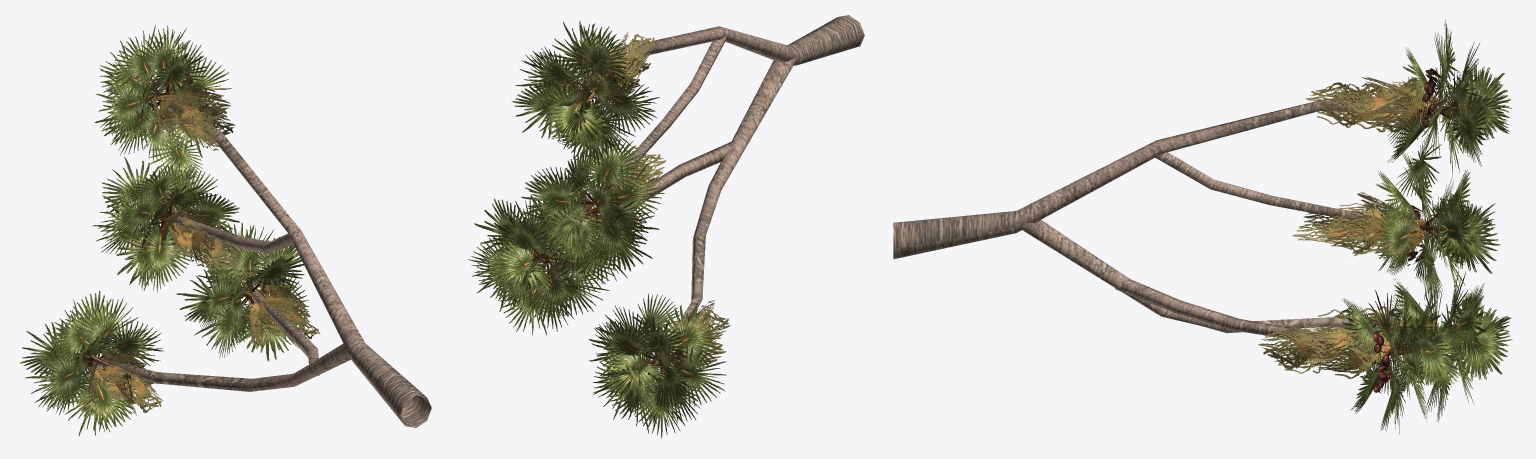
File: palm_doum_2.glb
3 views of the same model, side by side, from view 1: azimuth 30°, elevation 25°; view 2: azimuth 150°, elevation 25°; view 3: azimuth 270°, elevation 25° (orthographic). The views are drawn at different scales.
Bounding box in the file's own units: 12.42 × 17.21 × 22.6.
1 material, 1 textured.
